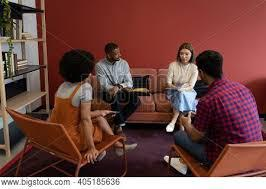without_mask: (102, 39, 130, 67), (177, 39, 194, 66)
